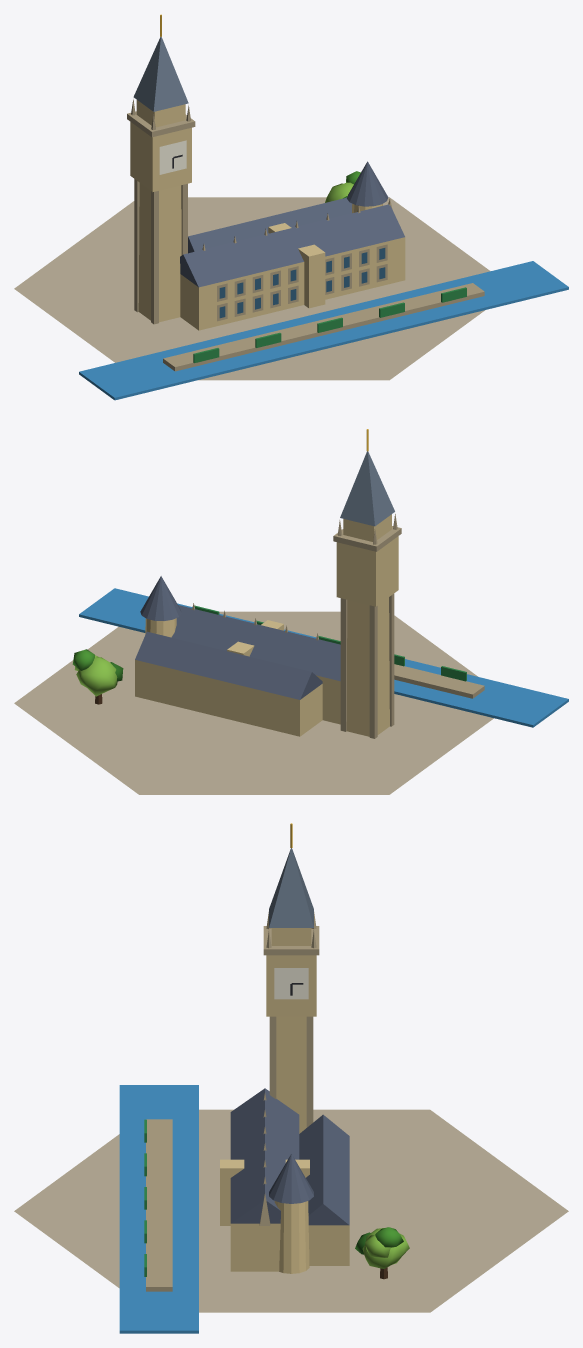
File: wonder_big_ben.fbx
The picture shows the model from 3 angles, top to bottom: view 1: azimuth 30°, elevation 25°; view 2: azimuth 150°, elevation 25°; view 3: azimuth 270°, elevation 25°; orthographic projection. The views are drawn at different scales.
Parts seen in each view (by area): view 1: wonder_big_ben; view 2: wonder_big_ben; view 3: wonder_big_ben.
Part boxes in pixels (box(x1,y1,x2,y2)): wonder_big_ben: box(14, 14, 568, 400); wonder_big_ben: box(14, 429, 568, 794); wonder_big_ben: box(14, 823, 568, 1333).
Size of the model in its own units: 220 by 138 by 210.
